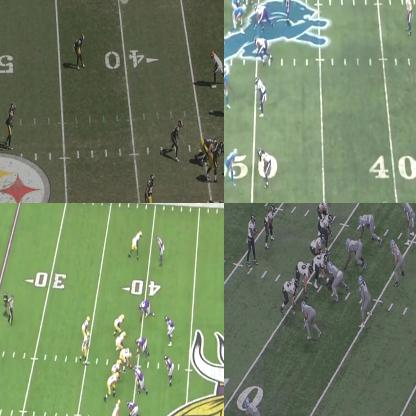CENTER: (120, 348, 133, 371), (319, 250, 329, 276), (243, 0, 255, 6)
DB: (259, 148, 272, 188), (6, 102, 16, 151), (256, 79, 268, 117), (248, 389, 264, 415), (74, 33, 84, 70), (405, 0, 414, 33), (156, 237, 165, 262)
LB: (388, 238, 404, 284), (205, 141, 223, 181), (358, 278, 370, 323), (402, 203, 415, 244), (173, 119, 182, 164), (279, 0, 293, 28), (147, 173, 158, 202), (166, 316, 175, 346), (164, 357, 174, 384)
QB: (247, 214, 256, 261), (82, 332, 90, 365)
SKILL: (211, 49, 223, 87), (225, 148, 238, 178), (266, 207, 276, 244), (130, 232, 140, 258), (224, 68, 231, 100), (81, 316, 91, 335), (110, 400, 121, 415), (319, 203, 333, 214)
